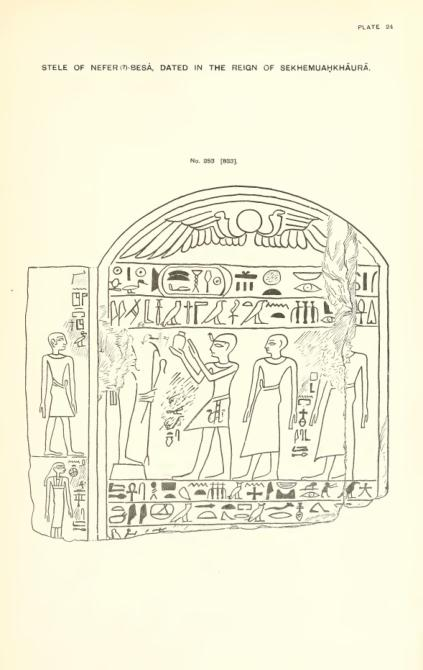circle: (149, 266, 227, 298)
